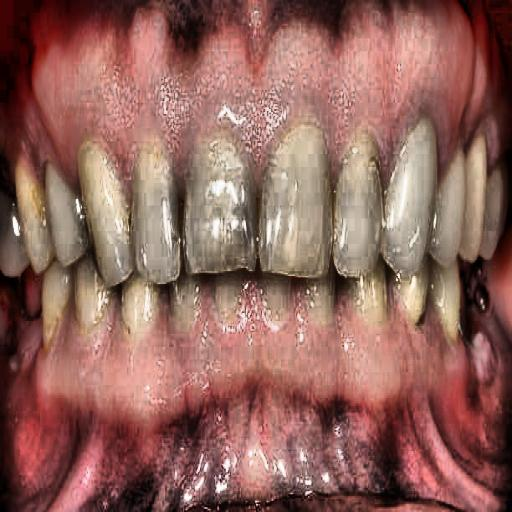Gingivitis: (38, 312, 497, 466), (17, 23, 512, 159)
